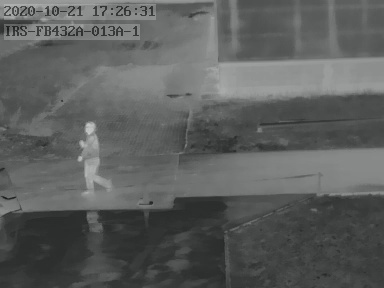person: (78, 122, 111, 194)
